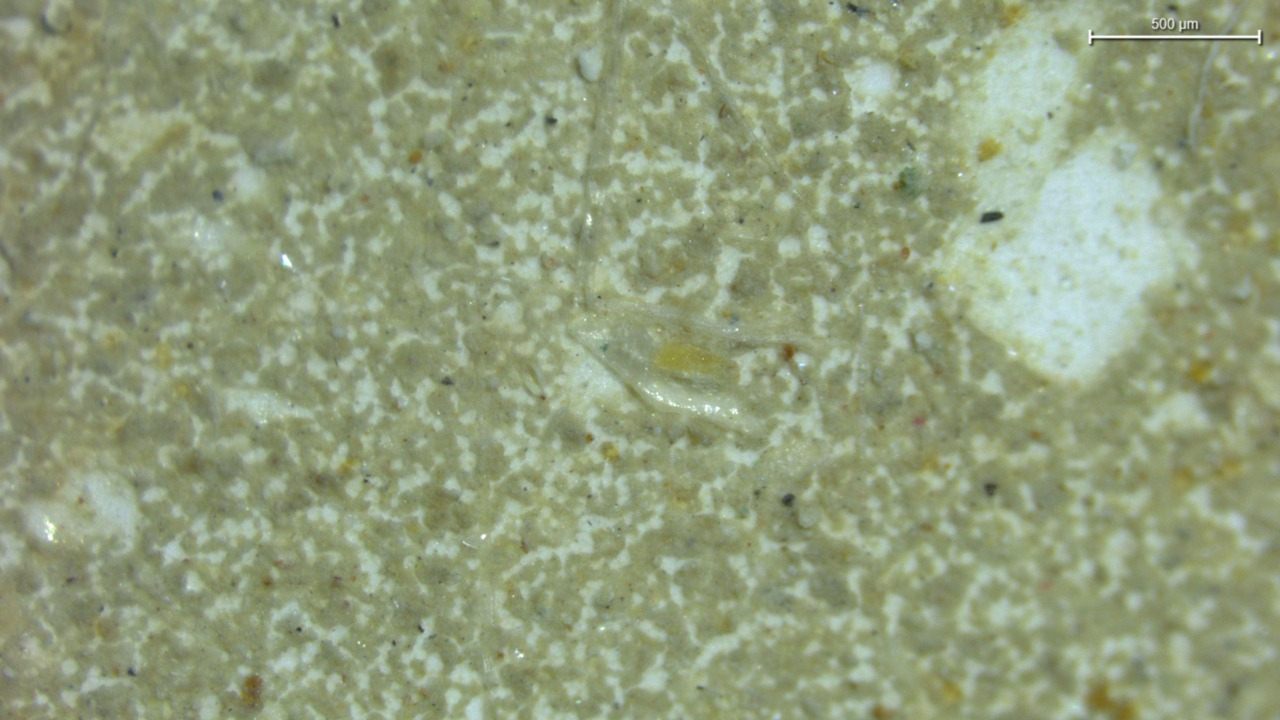microplastic_fragment: (569, 298, 761, 430)
